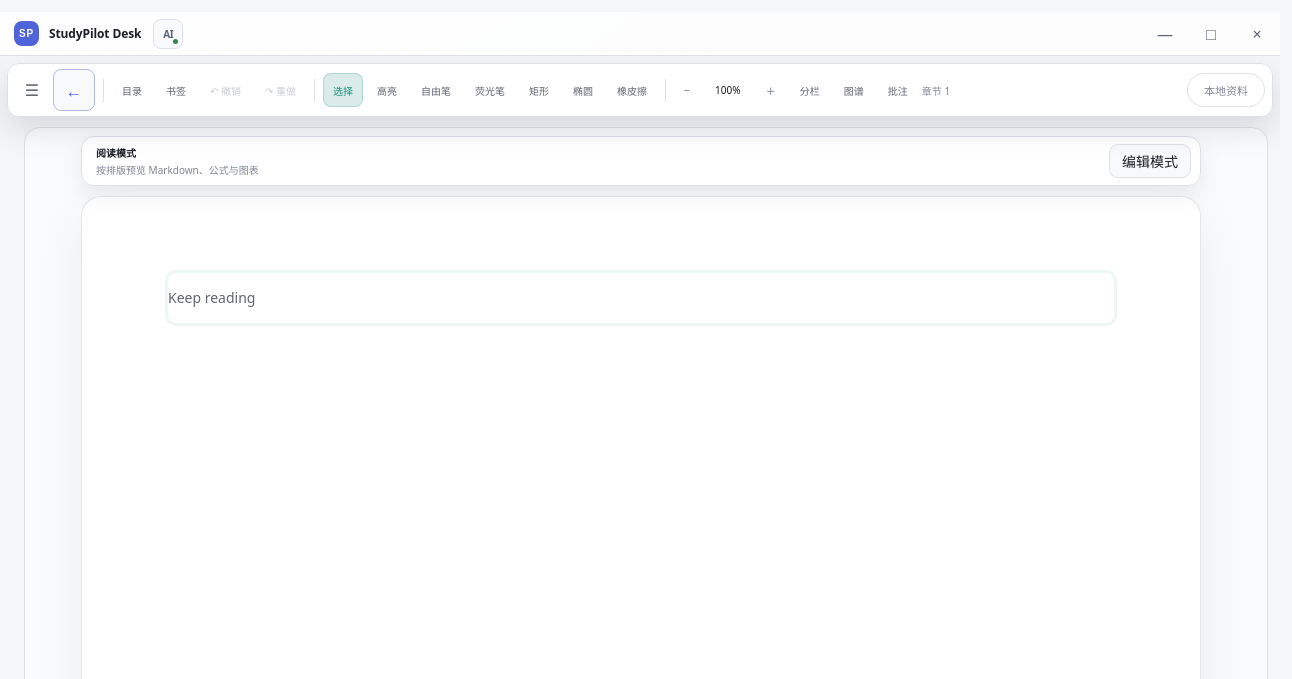
Scenario: reveals course navigation from the reader edge and returns to the last open document
Expected: the text "Keep reading" is shown, left=168, top=288, right=256, bottom=307
Click the button named "打开课程导航" at (32, 90), box left=15, top=73, right=49, bottom=107
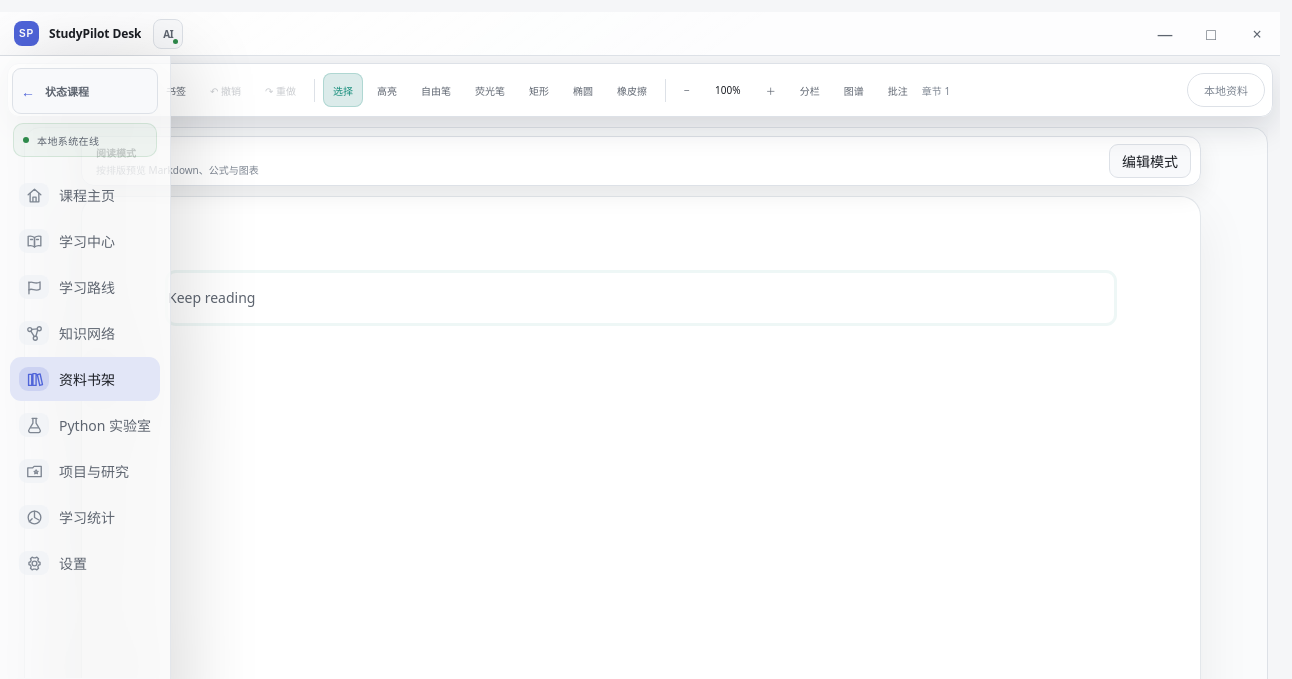
Click the button "设置" at (85, 563), box left=10, top=541, right=160, bottom=585
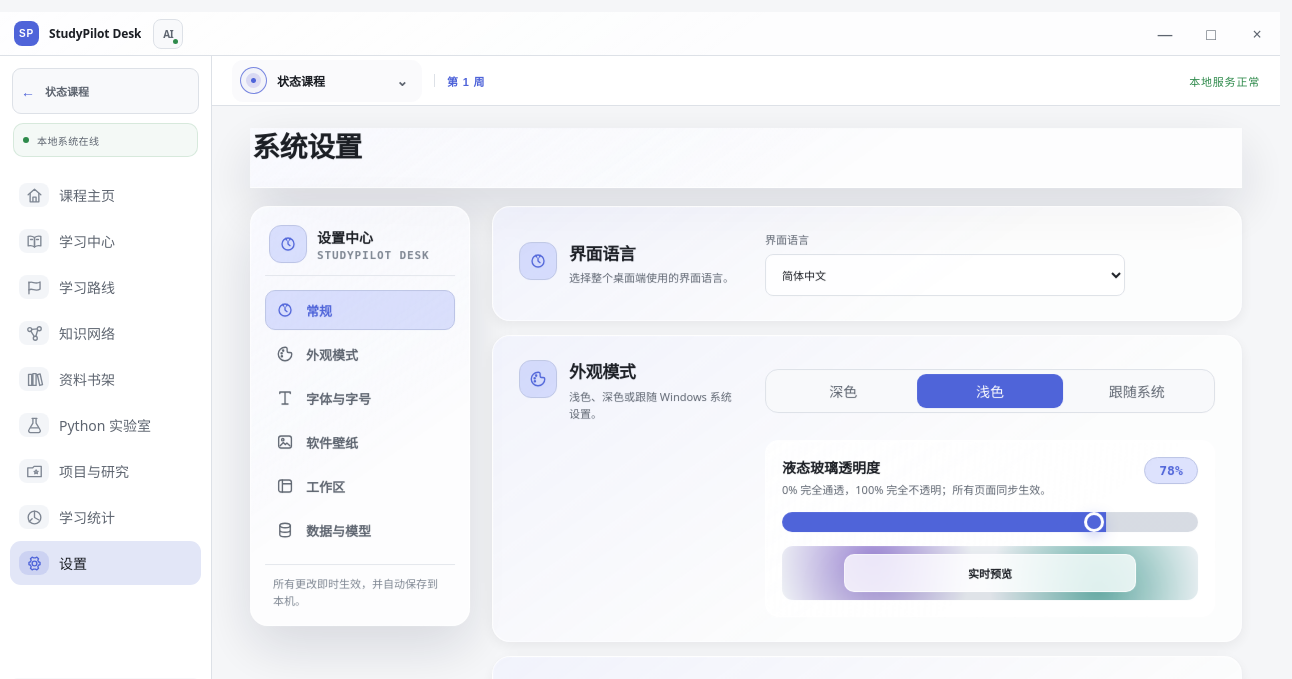
Result: the heading "系统设置" is shown at left=252, top=132, right=362, bottom=161
Click the button "资料书架" at (106, 379), box left=10, top=357, right=201, bottom=401
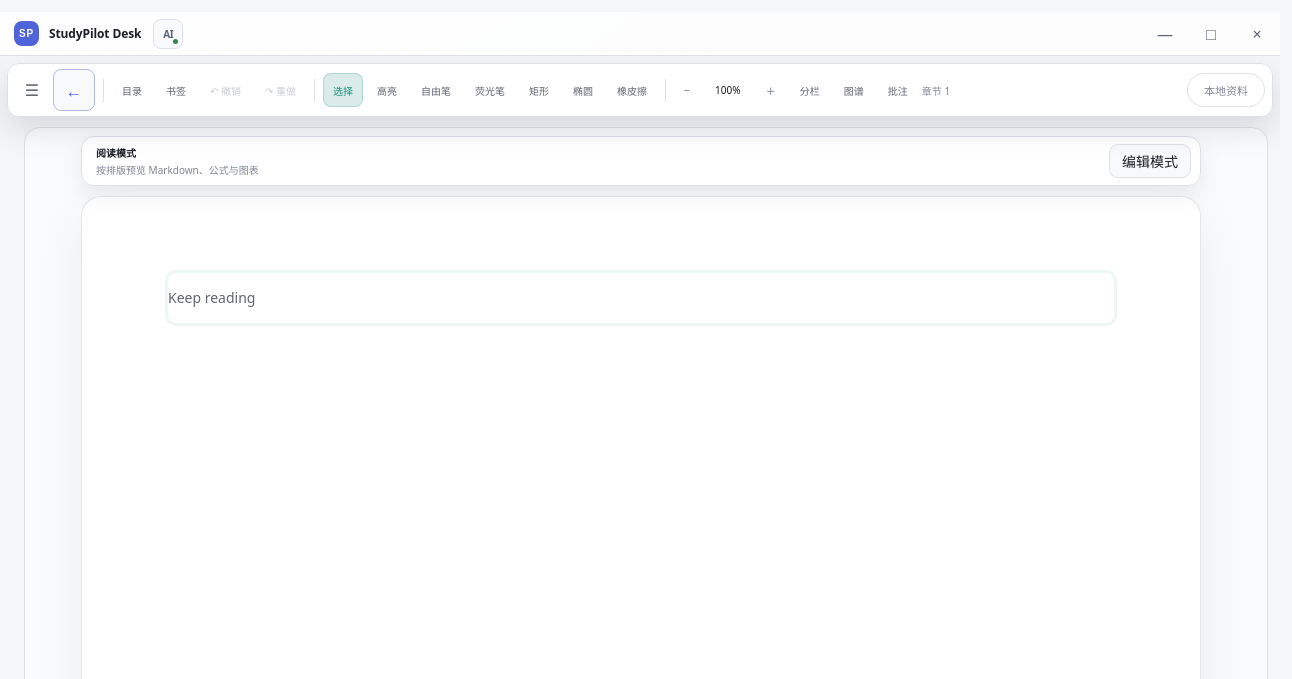
Result: the text "Keep reading" is shown at left=168, top=288, right=256, bottom=307
